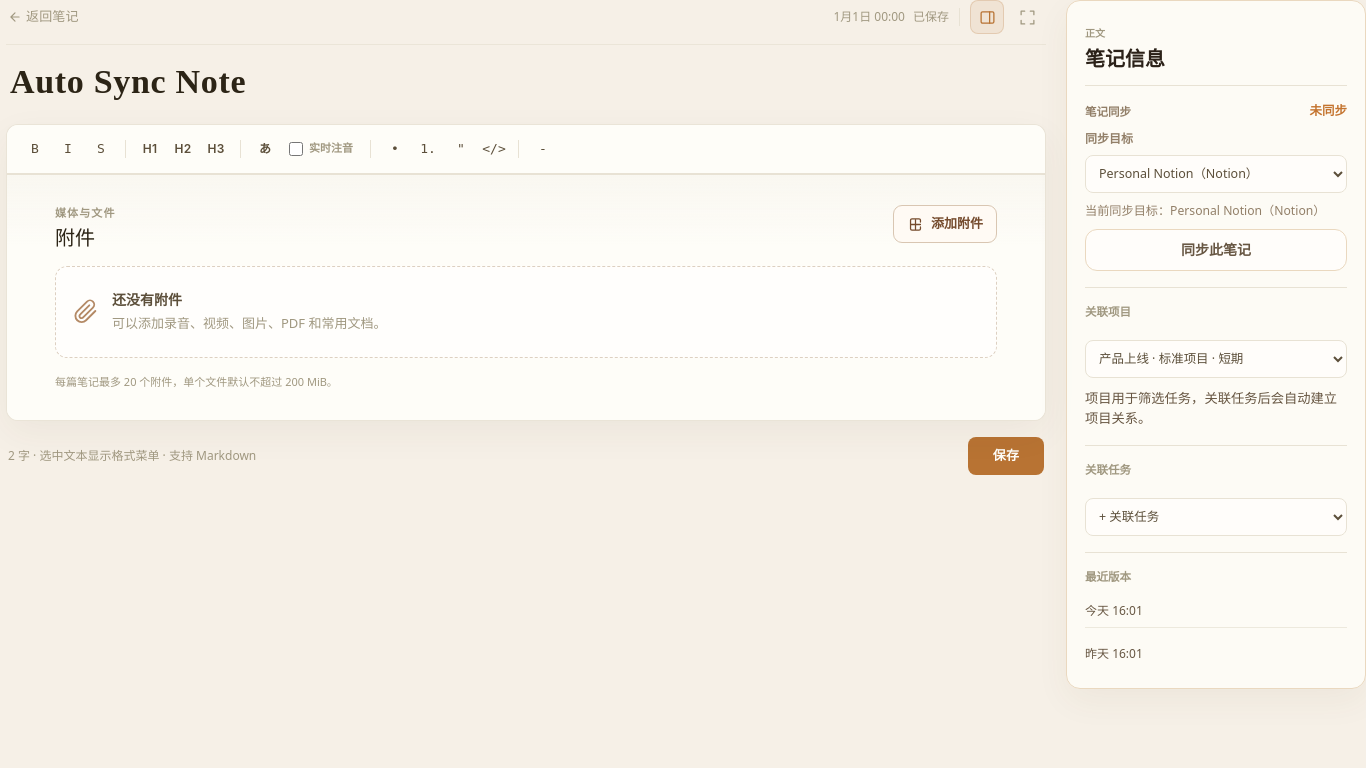
Test case: Editor auto sync › enters fullscreen writing mode and exits with Escape
Expected: the field showing "Auto Sync Note" is shown, [6,59,1046,110]
Step 1. Click the button named "进入全屏写作" → click(1027, 17), box [1010,0,1044,34]
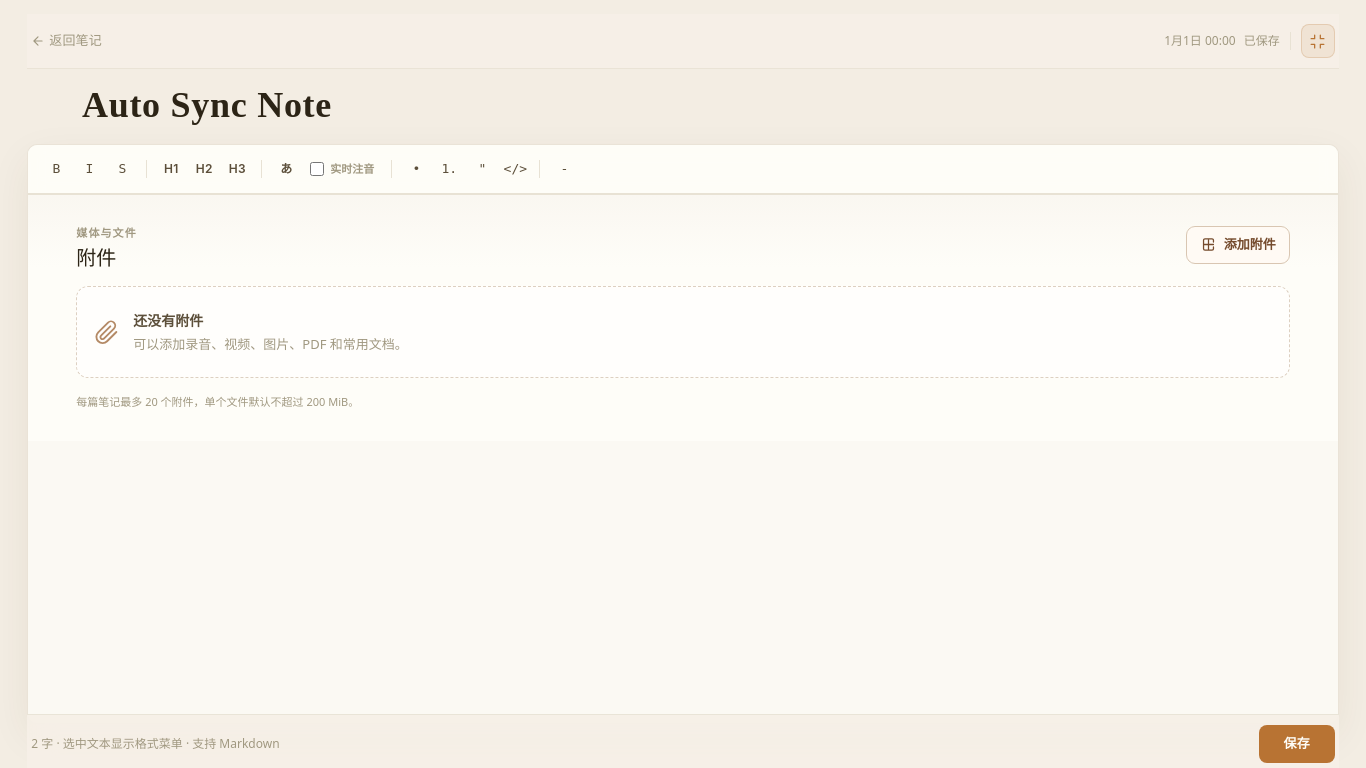
Expected: the button named "退出全屏写作" is shown, [1301,24,1335,58]
Expected: the heading "笔记信息" is gone
Step 2. Press Escape
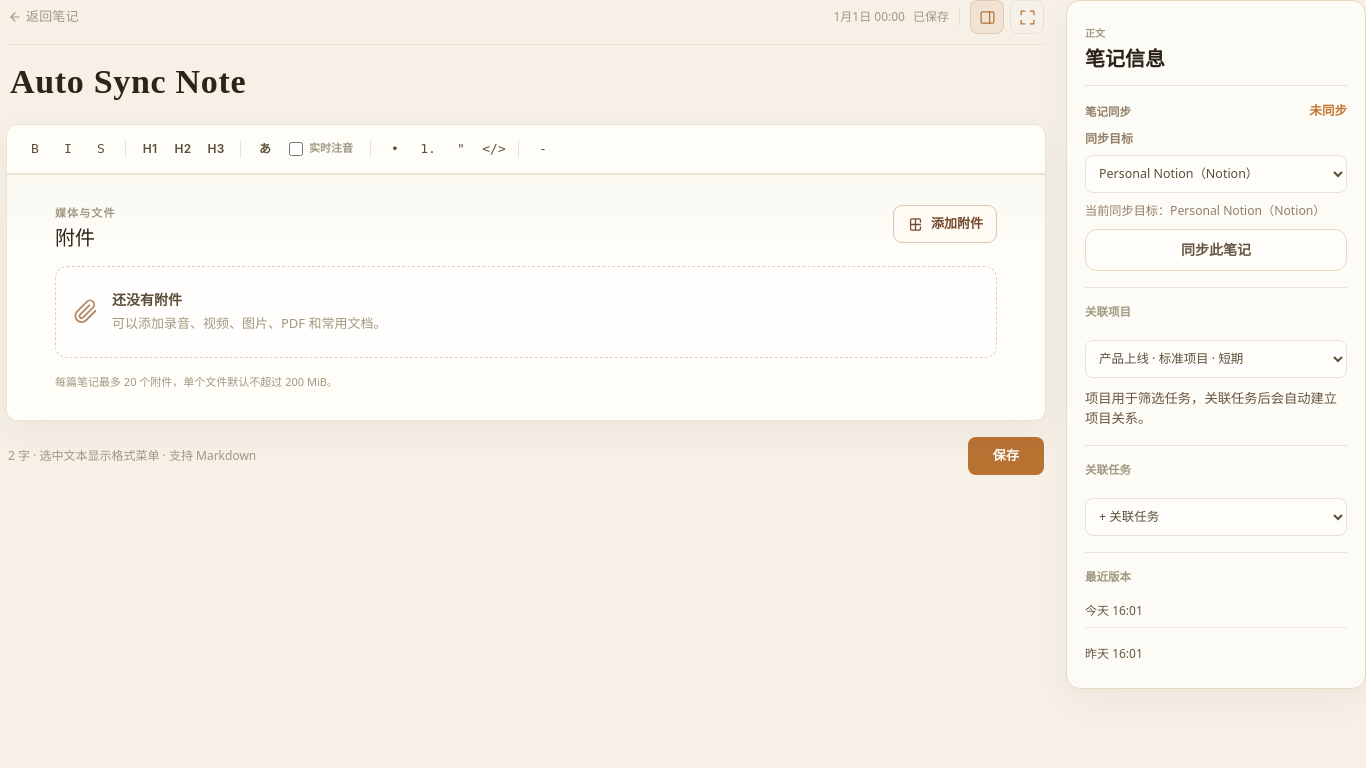
Expected: the button named "进入全屏写作" is shown, [1010,0,1044,34]
